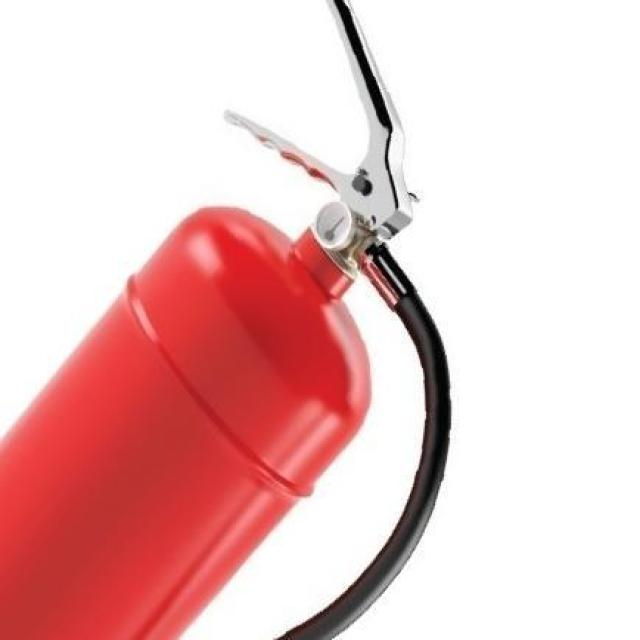fire_extinguisher: (0, 0, 453, 637)
